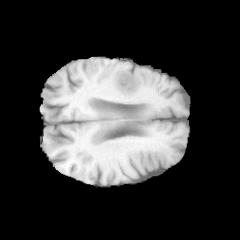glioma: (112, 69, 141, 96)
